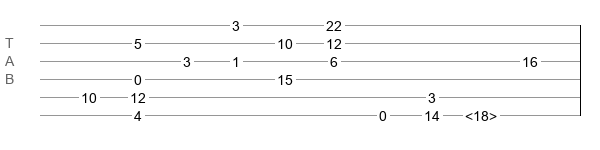0: (134, 72, 142, 82), (379, 108, 387, 118)
1: (232, 54, 240, 64)
10: (81, 90, 97, 100), (277, 36, 293, 46)
12: (130, 90, 146, 100), (326, 36, 342, 46)
14: (424, 108, 440, 118)
15: (277, 72, 293, 82)
16: (522, 54, 538, 64)
22: (326, 18, 342, 28)
3: (183, 54, 191, 64), (232, 18, 240, 28), (428, 90, 436, 100)
4: (134, 108, 142, 118)
5: (134, 36, 142, 46)
6: (330, 54, 338, 64)
harmonic: (465, 108, 497, 118)
